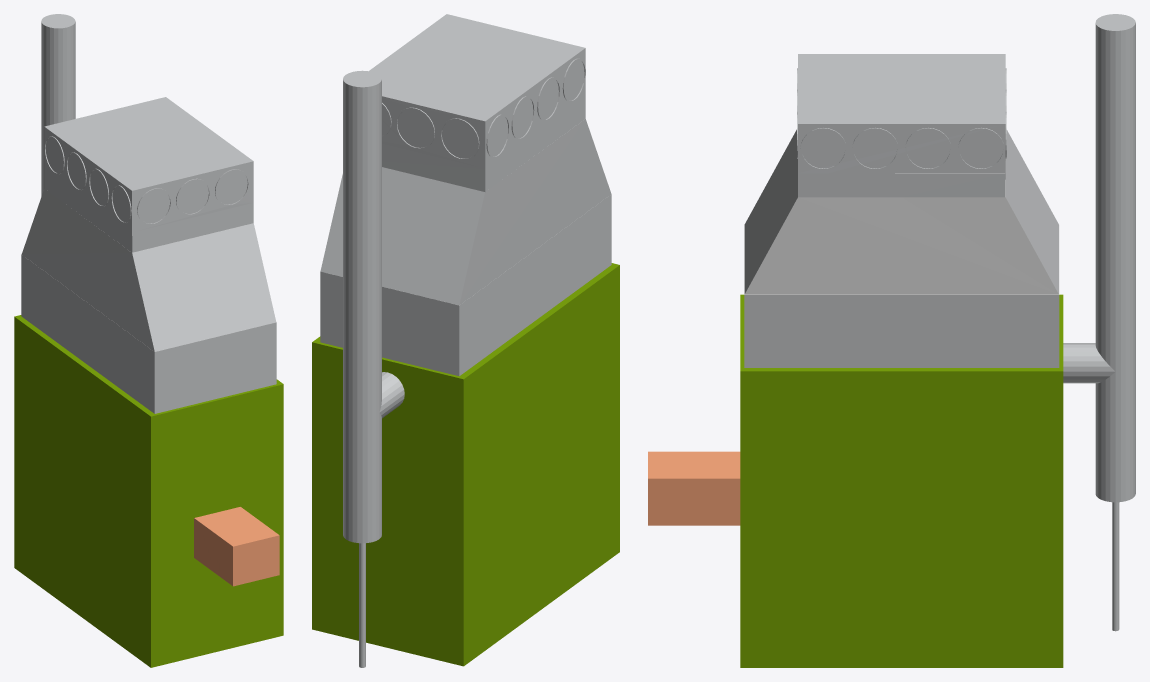
File: wanson.7.glb
3 renders of one model, left to right at view 1: azimuth 30°, elevation 25°; view 2: azimuth 150°, elevation 25°; view 3: azimuth 270°, elevation 25°, orthographic. The views are drawn at different scales.
Visible parts, largest first — view 1: imagetostl_mesh91, imagetostl_mesh56, imagetostl_mesh807, imagetostl_mesh267, imagetostl_mesh799, imagetostl_mesh94, imagetostl_mesh792, imagetostl_mesh781, imagetostl_mesh86, imagetostl_mesh178, imagetostl_mesh57, imagetostl_mesh53 (+10 smaller); view 2: imagetostl_mesh91, imagetostl_mesh92, imagetostl_mesh267, imagetostl_mesh779, imagetostl_mesh799, imagetostl_mesh94, imagetostl_mesh806, imagetostl_mesh781, imagetostl_mesh795, imagetostl_mesh103, imagetostl_mesh20, imagetostl_mesh26 (+12 smaller); view 3: imagetostl_mesh10, imagetostl_mesh778, imagetostl_mesh786, imagetostl_mesh267, imagetostl_mesh796, imagetostl_mesh71, imagetostl_mesh66, imagetostl_mesh807, imagetostl_mesh779, imagetostl_mesh100, imagetostl_mesh104, imagetostl_mesh4 (+10 smaller).
Part boxes in pixels (x1,y1,x2,y2): imagetostl_mesh91: (14,317,150,667); imagetostl_mesh56: (151,384,283,667); imagetostl_mesh807: (132,223,276,351); imagetostl_mesh267: (44,97,253,190); imagetostl_mesh799: (21,189,154,351); imagetostl_mesh94: (21,254,154,413); imagetostl_mesh792: (154,322,276,413); imagetostl_mesh781: (44,127,131,231); imagetostl_mesh86: (132,203,253,252); imagetostl_mesh178: (132,161,253,232); imagetostl_mesh57: (233,535,279,586); imagetostl_mesh53: (44,168,132,252); imagetostl_mesh91: (463,265,619,665); imagetostl_mesh92: (312,342,463,666); imagetostl_mesh267: (369,14,584,121); imagetostl_mesh779: (320,167,484,305); imagetostl_mesh799: (459,119,611,305); imagetostl_mesh94: (459,194,611,375); imagetostl_mesh806: (320,271,459,375); imagetostl_mesh781: (485,48,585,168); imagetostl_mesh795: (382,96,485,168); imagetostl_mesh103: (357,87,362,543); imagetostl_mesh20: (367,86,372,542); imagetostl_mesh26: (362,87,367,543); imagetostl_mesh10: (740,371,1063,667); imagetostl_mesh778: (745,197,1058,294); imagetostl_mesh786: (744,295,1059,367); imagetostl_mesh267: (798,54,1005,123); imagetostl_mesh796: (798,124,1005,173); imagetostl_mesh71: (798,173,1005,197); imagetostl_mesh66: (648,478,740,525); imagetostl_mesh807: (744,129,797,293); imagetostl_mesh779: (1005,130,1058,293); imagetostl_mesh100: (1115,30,1120,502); imagetostl_mesh104: (1110,30,1115,502); imagetostl_mesh4: (1105,30,1110,501).
Bounding box in the file's own units: 1.24 × 4.57 × 3.33.
